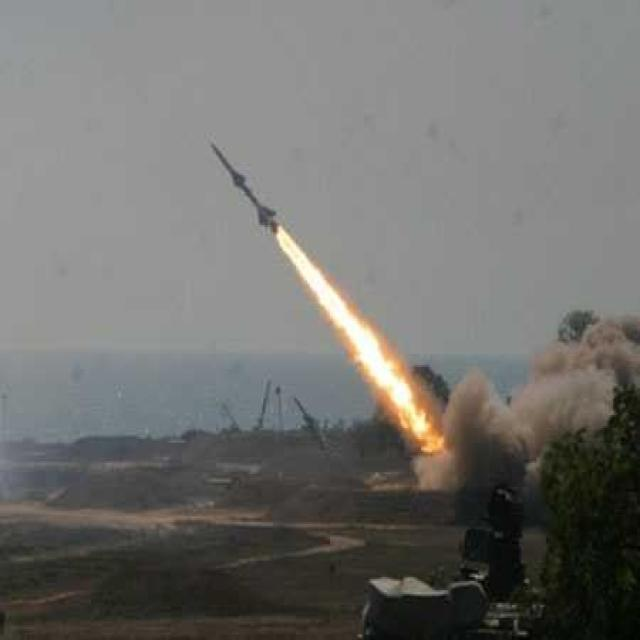missile: (206, 130, 282, 236)
